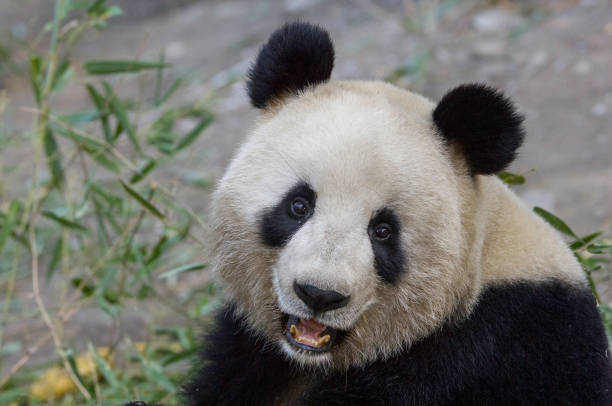panda: (167, 21, 547, 383)
